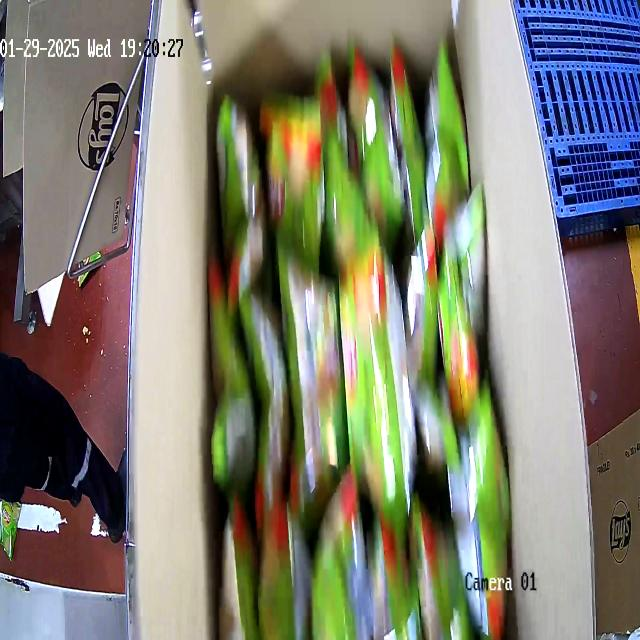YOGURT_HERB: (208, 36, 512, 638)
